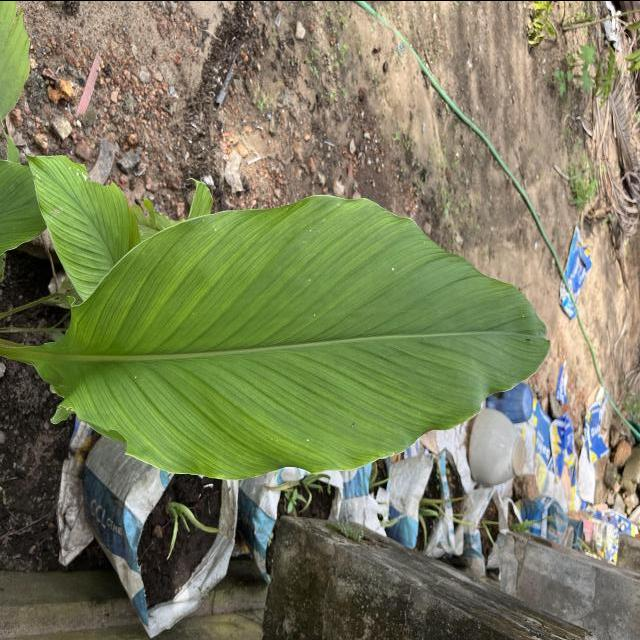Curcuma longa: (32, 190, 554, 484)
